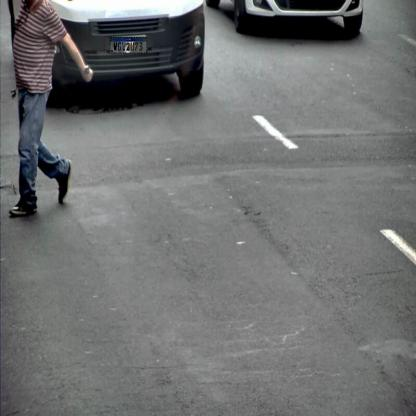PlacaM: (110, 37, 147, 53)
